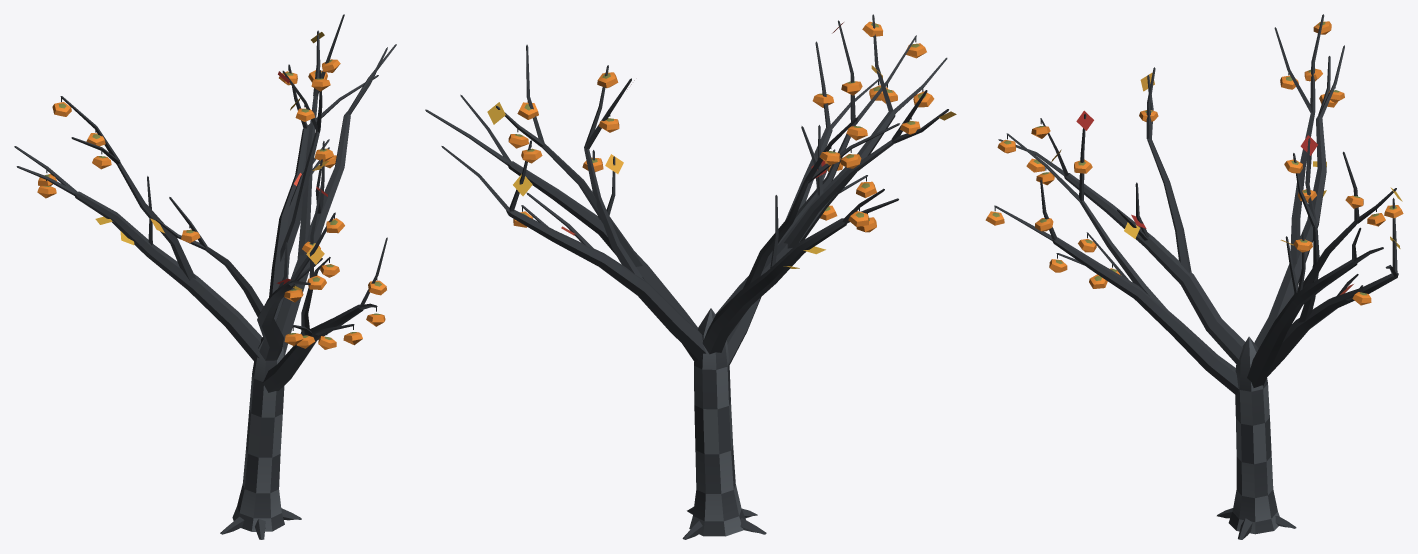
File: SC_Nat_Persimmon_Bare.gltf
The picture shows the model from 3 angles, left to right: view 1: azimuth 30°, elevation 25°; view 2: azimuth 150°, elevation 25°; view 3: azimuth 270°, elevation 25°; orthographic projection. The views are drawn at different scales.
Visible parts, largest first — view 1: SC_Nat_Persimmon_Bare; view 2: SC_Nat_Persimmon_Bare; view 3: SC_Nat_Persimmon_Bare.
Part boxes in pixels (left/top/right/bottom): SC_Nat_Persimmon_Bare: left=14, top=14, right=396, bottom=539; SC_Nat_Persimmon_Bare: left=425, top=14, right=956, bottom=539; SC_Nat_Persimmon_Bare: left=985, top=14, right=1403, bottom=539.
Size of the model in its own units: 4.25 by 4.41 by 3.85.
Materials: 1 (1 with a texture image).
